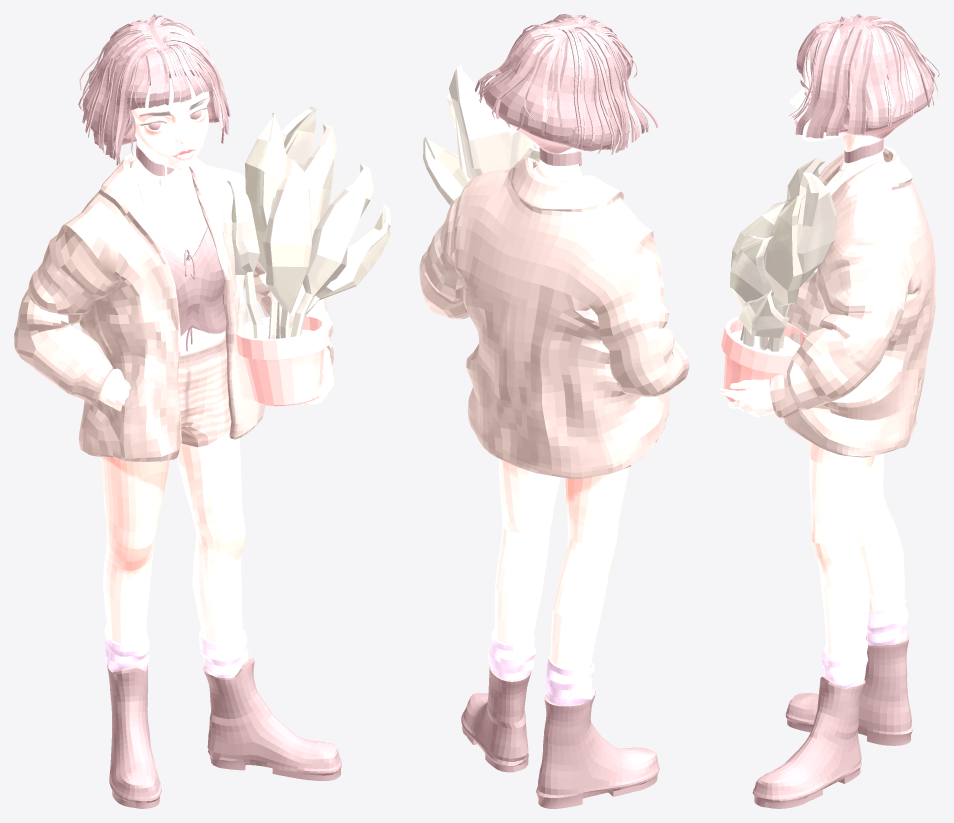
3 views of the same model, side by side, from view 1: azimuth 30°, elevation 25°; view 2: azimuth 150°, elevation 25°; view 3: azimuth 270°, elevation 25° (orthographic). The views are drawn at different scales.
Visible parts, largest first — view 1: polySurface80, polySurface74, polySurface87, polySurface67, polySurface86, polySurface66, polySurface75, polySurface68, polySurface85, polySurface76, polySurface69, hairStrands_v2:polySurface28 (+7 smaller); view 2: polySurface80, polySurface74, hairStrands_v2:polySurface28, polySurface86, polySurface87, polySurface102, polySurface77, polySurface62, polySurface78, polySurface69, polySurface60, polySurface37 (+1 smaller); view 3: polySurface80, polySurface74, polySurface87, polySurface86, hairStrands_v2:polySurface28, polySurface67, polySurface72, polySurface102, polySurface68, polySurface62, polySurface77, polySurface78 (+15 smaller).
Boxes of the visible parts, box(x1,y1,x2,y2) form: polySurface80: box(14, 152, 333, 461); polySurface74: box(101, 143, 245, 644); polySurface87: box(203, 658, 341, 780); polySurface67: box(236, 315, 328, 406); polySurface86: box(107, 665, 161, 808); polySurface66: box(262, 158, 311, 338); polySurface75: box(178, 331, 231, 447); polySurface68: box(290, 163, 373, 336); polySurface85: box(131, 75, 209, 170); polySurface76: box(161, 226, 226, 336); polySurface69: box(245, 112, 287, 338); hairStrands_v2:polySurface28: box(82, 19, 219, 146); polySurface80: box(419, 157, 689, 478); polySurface74: box(494, 147, 629, 669); hairStrands_v2:polySurface28: box(483, 17, 624, 153); polySurface86: box(536, 687, 659, 808); polySurface87: box(461, 665, 531, 772); polySurface102: box(449, 63, 512, 179); polySurface77: box(545, 655, 594, 705); polySurface62: box(423, 137, 468, 205); polySurface78: box(487, 629, 536, 679); polySurface69: box(484, 79, 534, 168); polySurface60: box(539, 147, 581, 165); polySurface37: box(581, 27, 628, 150); polySurface80: box(769, 145, 936, 457); polySurface74: box(809, 134, 904, 654); polySurface87: box(752, 676, 865, 808); polySurface86: box(785, 634, 913, 745); hairStrands_v2:polySurface28: box(810, 17, 934, 138); polySurface67: box(721, 316, 806, 401); polySurface72: box(765, 194, 805, 351); polySurface102: box(767, 172, 837, 349); polySurface68: box(730, 235, 774, 346); polySurface62: box(738, 289, 789, 350); polySurface77: box(866, 599, 908, 646); polySurface78: box(821, 642, 868, 689).
Bounding box in the file's own units: 0.301 × 0.6949 × 0.1929.
